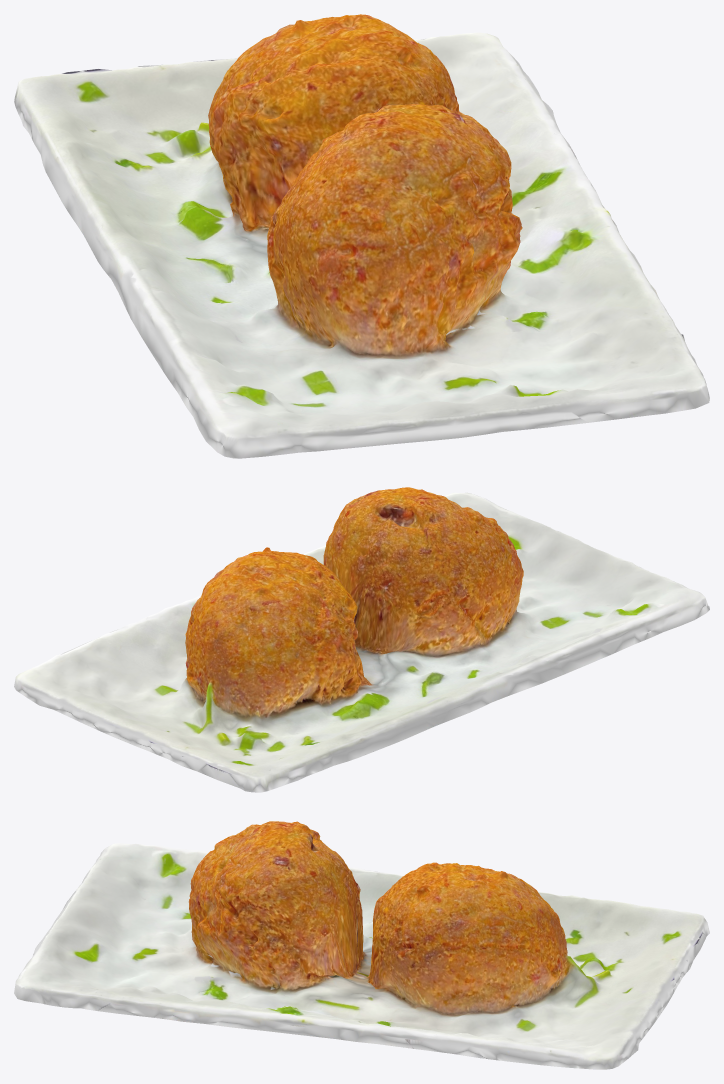
File: PasteisAlheira.glb
The picture shows the model from 3 angles, top to bottom: view 1: azimuth 30°, elevation 25°; view 2: azimuth 150°, elevation 25°; view 3: azimuth 270°, elevation 25°; orthographic projection. The views are drawn at different scales.
Visible parts, largest first — view 1: Mesh_0; view 2: Mesh_0; view 3: Mesh_0.
Boxes of the visible parts, box(x1,y1,x2,y2) form: Mesh_0: box(14, 14, 709, 458); Mesh_0: box(14, 487, 709, 792); Mesh_0: box(14, 821, 709, 1069).
Size of the model in its own units: 0.543 by 0.1663 by 0.7403.
1 material, 1 textured.
